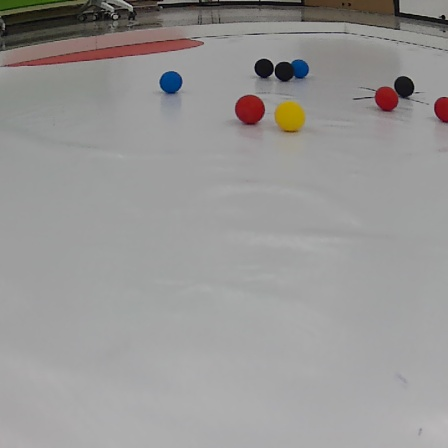black: (252, 52, 278, 79), (393, 75, 417, 100), (274, 62, 293, 86)
blue: (159, 73, 185, 94), (290, 58, 313, 78)
red: (231, 92, 269, 125), (368, 85, 400, 113), (431, 92, 448, 123)
red_base: (6, 36, 206, 66)
yellow: (273, 100, 310, 133)
